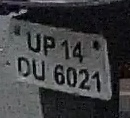0: (65, 66, 78, 89)
1: (59, 36, 73, 62), (91, 71, 104, 95)
2: (75, 68, 93, 93)
4: (70, 40, 86, 64)
6: (51, 63, 65, 88)
D: (15, 56, 32, 80)
P: (41, 34, 58, 59)
U: (30, 56, 48, 87), (23, 30, 43, 57)
